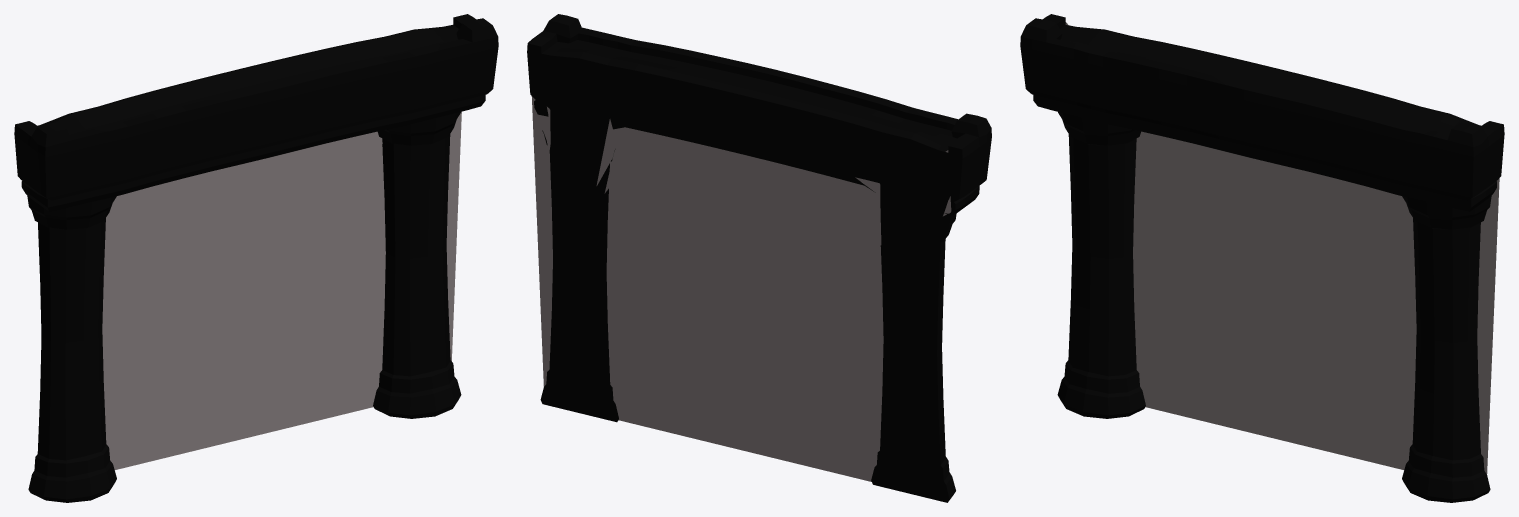
Rendered from doorframe.fbx.
3 renders of one model, left to right at view 1: azimuth 30°, elevation 25°; view 2: azimuth 150°, elevation 25°; view 3: azimuth 330°, elevation 25°, orthographic. The views are drawn at different scales.
Parts seen in each view (by area): view 1: doorframe_outline, doorframe; view 2: doorframe, doorframe_outline; view 3: doorframe_outline, doorframe.
Boxes of the visible parts, box(x1,y1,x2,y2) form: doorframe_outline: box(14, 14, 498, 502); doorframe: box(102, 111, 461, 469); doorframe: box(531, 96, 951, 481); doorframe_outline: box(527, 14, 991, 502); doorframe_outline: box(1020, 14, 1504, 502); doorframe: box(1065, 22, 1499, 474).
Size of the model in its own units: 1589 by 1280 by 199.
